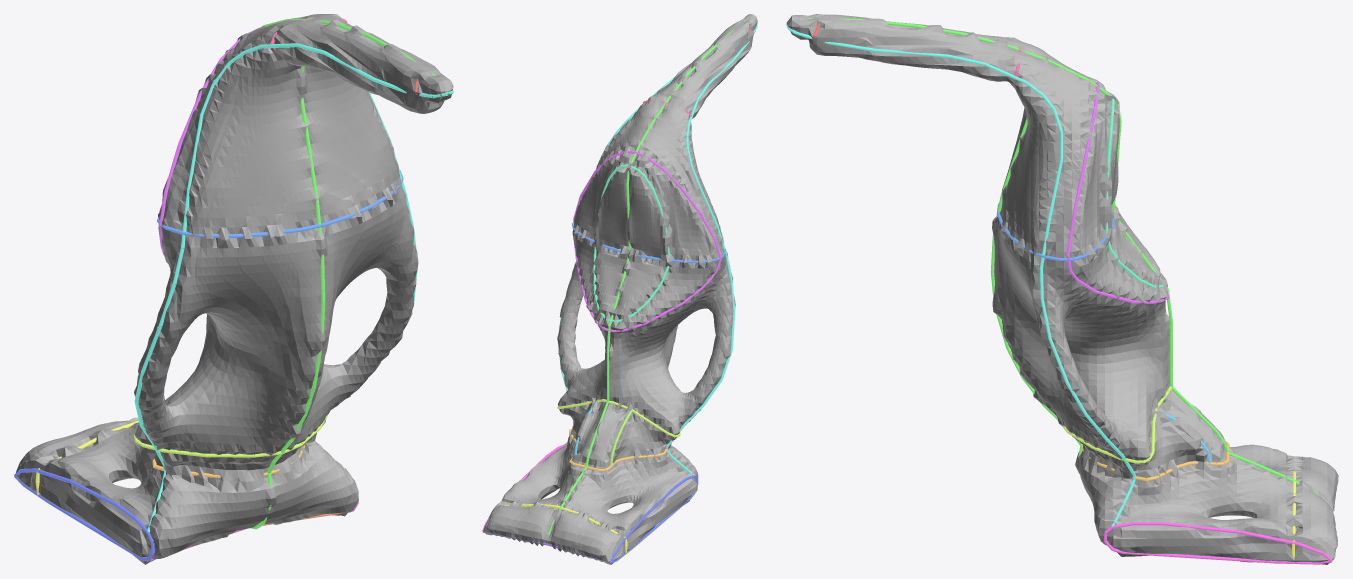
Rendered from t2f_vacuum.gltf.
The picture shows the model from 3 angles, left to right: view 1: azimuth 30°, elevation 25°; view 2: azimuth 150°, elevation 25°; view 3: azimuth 270°, elevation 25°; orthographic projection. The views are drawn at different scales.
Bounding box in the file's own units: 0.317 × 0.6898 × 0.6751.
